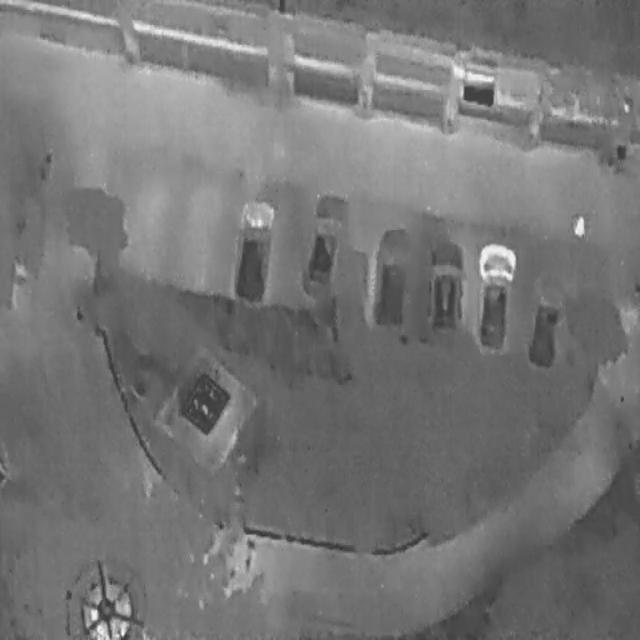Car: (468, 238, 520, 358), (297, 188, 350, 300), (226, 192, 276, 308), (368, 222, 414, 332), (424, 236, 465, 336), (523, 284, 567, 371)
Person: (570, 211, 587, 240)
